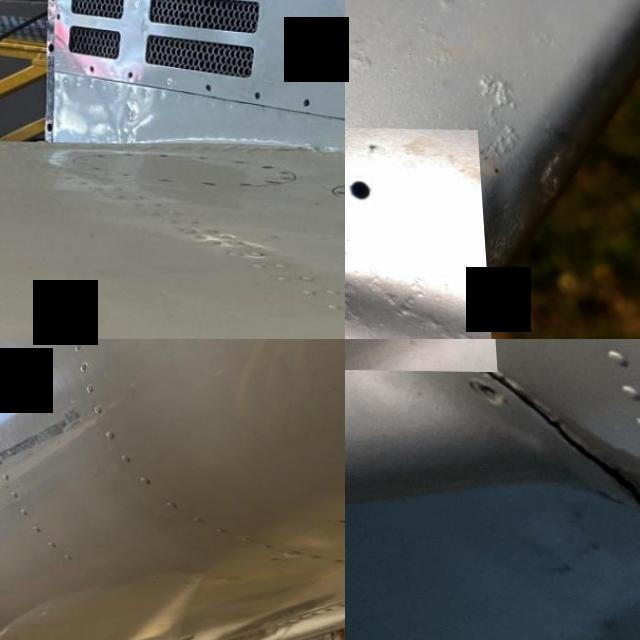Crack: (515, 398, 640, 518), (345, 243, 459, 339)
Dent: (345, 124, 492, 339)
Missing_Fastener: (462, 380, 498, 406), (299, 97, 312, 106), (202, 84, 215, 92)
